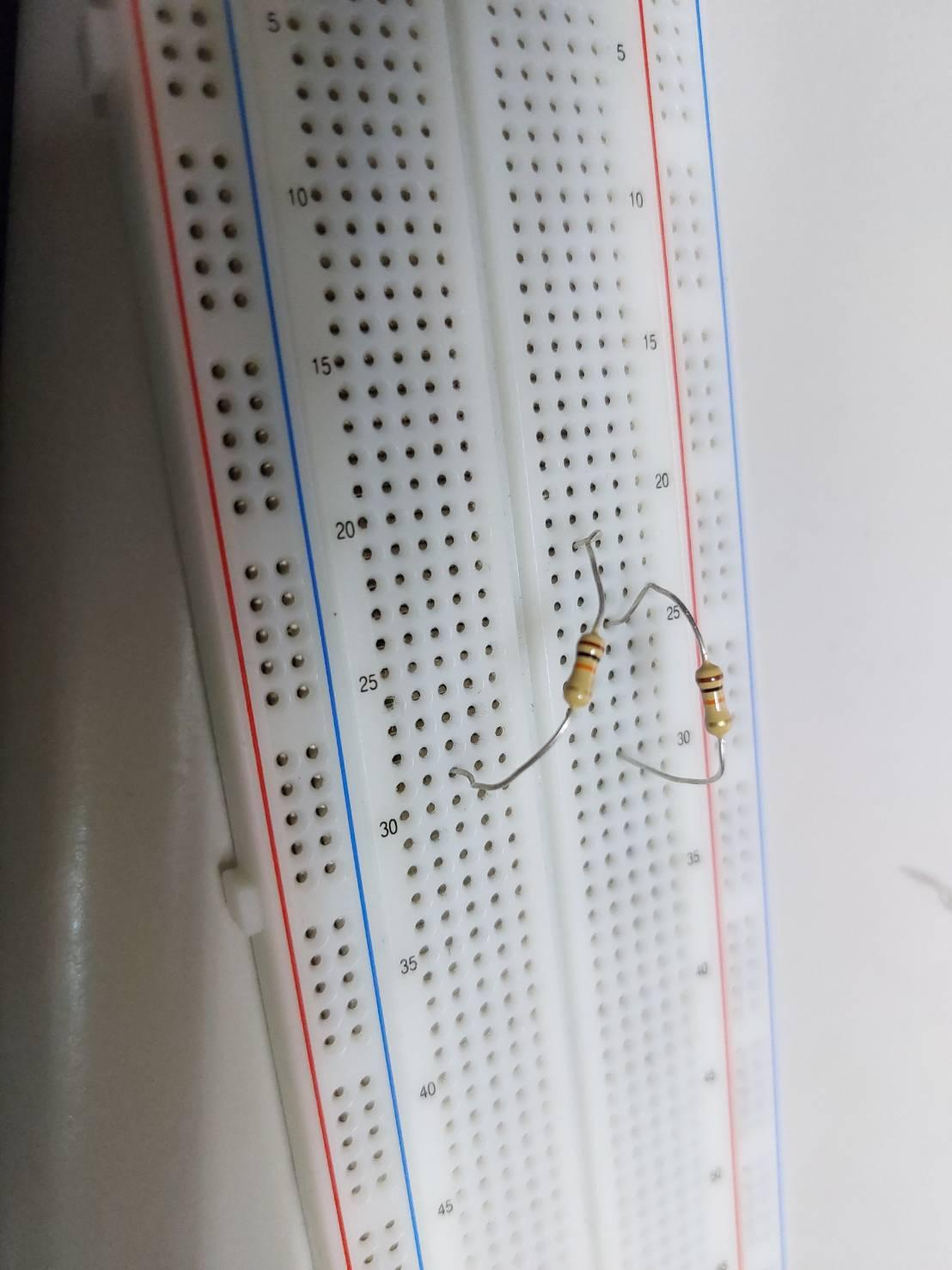resistor: (562, 632, 605, 706), (696, 663, 732, 737)
